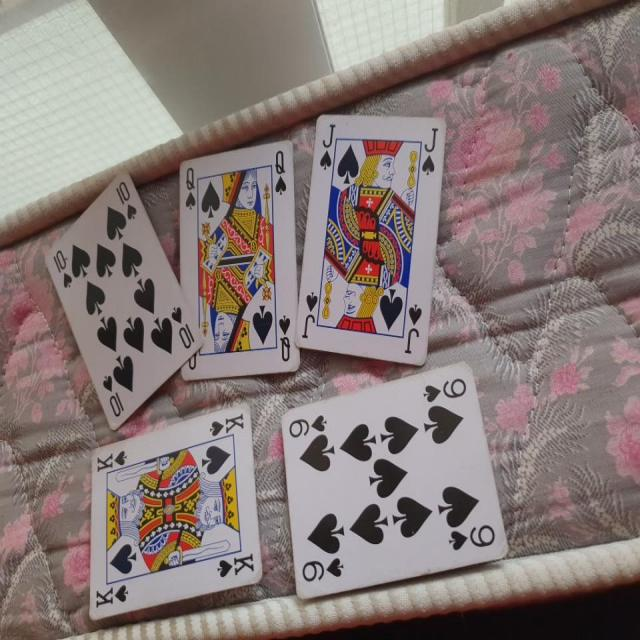10 Spades: (40, 166, 206, 433)
9 Spades: (279, 349, 515, 594)
J Spades: (292, 103, 449, 370)
K Spades: (81, 398, 269, 622)
Q Spades: (172, 132, 307, 385)
